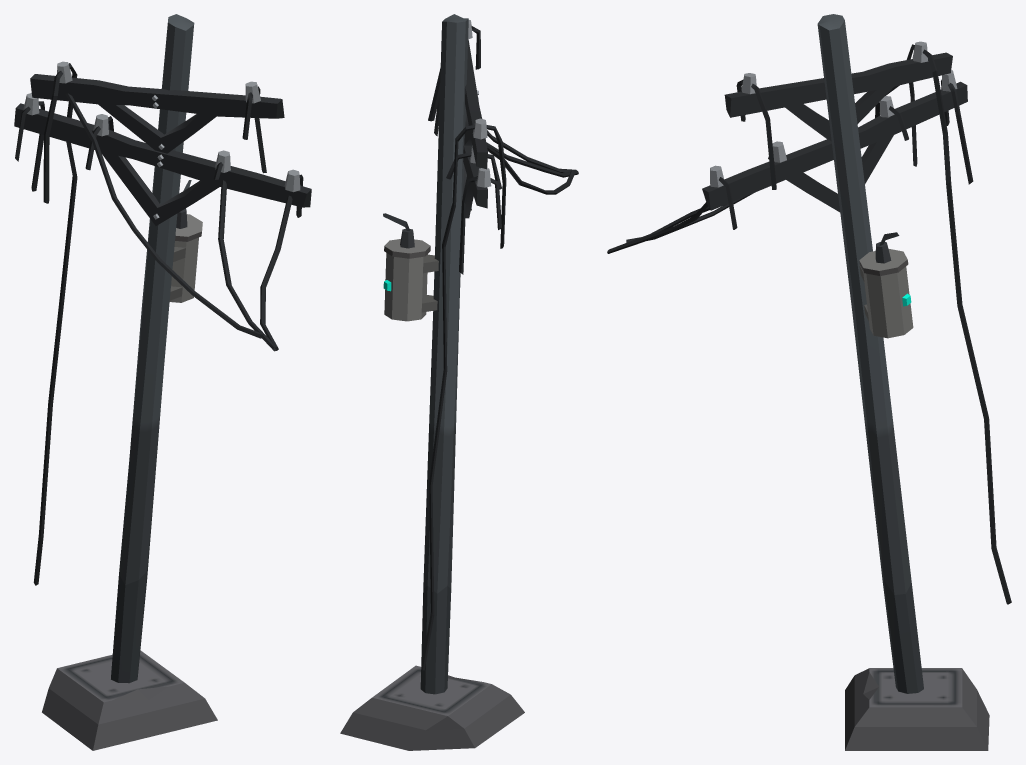
File: SM_Prop_Food_Trailer_PowerPole_01.fbx
The picture shows the model from 3 angles, left to right: view 1: azimuth 30°, elevation 25°; view 2: azimuth 150°, elevation 25°; view 3: azimuth 270°, elevation 25°; orthographic projection. The views are drawn at different scales.
Visible parts, largest first — view 1: SM_Prop_Food_Trailer_PowerPole_01; view 2: SM_Prop_Food_Trailer_PowerPole_01; view 3: SM_Prop_Food_Trailer_PowerPole_01.
Boxes of the visible parts, x1=… form: SM_Prop_Food_Trailer_PowerPole_01: x1=14, y1=14, x2=311, y2=750; SM_Prop_Food_Trailer_PowerPole_01: x1=340, y1=14, x2=578, y2=750; SM_Prop_Food_Trailer_PowerPole_01: x1=607, y1=14, x2=1011, y2=750.
Size of the model in its own units: 167 by 641 by 331.
